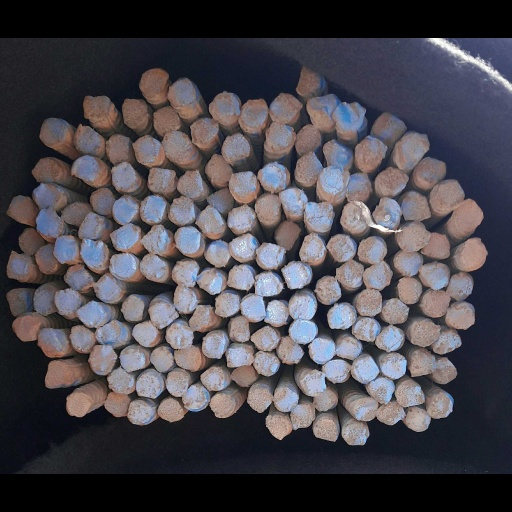dipstick: (354, 135, 387, 170), (396, 131, 429, 165), (455, 237, 489, 270), (237, 98, 269, 133), (307, 93, 341, 123), (396, 221, 430, 251), (340, 199, 369, 234), (92, 272, 124, 303), (376, 167, 409, 197), (270, 93, 302, 123), (80, 238, 110, 269), (229, 172, 259, 203), (372, 197, 401, 229), (374, 112, 406, 141), (434, 179, 464, 209), (133, 136, 164, 165), (419, 262, 450, 291), (95, 320, 127, 348), (258, 162, 290, 190), (111, 162, 140, 192), (88, 345, 117, 375), (279, 187, 308, 217), (402, 191, 431, 221), (454, 198, 483, 228), (298, 233, 326, 264), (209, 92, 241, 119), (333, 102, 365, 129), (37, 328, 66, 357), (221, 133, 250, 162), (139, 68, 169, 96), (141, 225, 171, 253), (153, 106, 181, 136), (324, 139, 354, 167), (320, 165, 350, 193), (445, 301, 475, 329), (393, 249, 423, 277), (119, 345, 150, 372), (39, 117, 67, 146), (229, 233, 257, 262), (273, 221, 301, 250), (305, 201, 333, 230), (327, 234, 356, 262), (417, 157, 446, 185), (74, 124, 101, 154), (140, 194, 167, 224), (265, 123, 295, 150), (295, 151, 322, 181), (375, 324, 405, 351), (410, 320, 440, 347), (362, 261, 392, 288), (420, 290, 450, 317), (196, 205, 224, 233), (168, 78, 196, 106), (112, 196, 139, 225), (110, 223, 139, 250), (165, 322, 194, 349), (327, 302, 356, 329), (352, 355, 379, 384), (447, 272, 474, 301), (148, 302, 178, 328), (255, 242, 285, 268), (295, 124, 321, 154), (346, 172, 372, 202), (432, 328, 462, 354), (33, 284, 58, 315), (36, 209, 63, 237), (6, 288, 33, 316), (77, 300, 105, 327), (136, 371, 164, 398), (227, 205, 255, 232), (409, 348, 436, 376), (11, 315, 40, 341), (132, 321, 161, 347), (296, 70, 325, 96), (396, 380, 425, 406), (421, 232, 450, 258), (71, 155, 101, 180), (31, 158, 61, 183), (109, 253, 136, 280), (148, 167, 175, 194), (277, 336, 304, 363), (78, 213, 106, 239), (18, 227, 44, 255), (107, 368, 135, 394), (182, 385, 210, 411), (174, 225, 200, 253), (309, 337, 335, 365), (315, 275, 341, 303), (336, 260, 364, 286), (367, 377, 395, 403), (356, 288, 382, 316), (169, 196, 194, 225), (197, 270, 226, 295), (282, 263, 311, 288), (122, 98, 147, 127), (358, 236, 387, 261), (63, 265, 93, 289), (35, 244, 59, 274), (70, 325, 96, 352), (139, 253, 166, 279), (172, 260, 198, 287), (177, 170, 203, 197), (251, 325, 278, 351), (44, 360, 69, 388), (289, 319, 317, 344), (240, 294, 265, 322), (352, 317, 380, 342), (55, 288, 81, 314), (289, 294, 315, 320), (405, 406, 431, 432), (90, 188, 115, 215), (53, 236, 78, 263), (209, 393, 236, 418), (199, 366, 226, 391), (335, 335, 362, 360), (427, 393, 454, 418), (382, 298, 409, 323), (397, 277, 422, 304), (7, 251, 31, 279), (173, 285, 197, 313), (254, 272, 282, 296), (207, 188, 235, 212), (207, 154, 231, 182), (376, 402, 405, 425), (149, 346, 174, 372), (174, 345, 200, 370), (205, 240, 230, 266), (301, 369, 326, 395), (253, 351, 279, 376), (6, 196, 33, 220), (323, 359, 350, 383), (265, 299, 288, 327), (61, 202, 90, 224), (189, 305, 214, 330), (266, 415, 291, 440), (290, 404, 315, 429), (313, 417, 338, 442), (312, 387, 337, 412), (228, 264, 253, 289), (66, 393, 92, 417), (382, 352, 406, 378), (433, 358, 457, 384), (32, 183, 59, 206), (106, 134, 129, 161), (121, 294, 144, 321), (202, 332, 225, 359), (191, 118, 218, 141), (341, 423, 369, 445), (104, 392, 129, 416), (247, 388, 272, 412), (274, 387, 298, 412), (83, 96, 109, 119), (166, 371, 189, 397), (353, 397, 377, 421), (128, 400, 151, 425), (158, 399, 183, 422), (215, 293, 240, 316), (255, 193, 280, 216), (228, 317, 250, 342), (231, 365, 256, 386), (226, 347, 253, 366)
